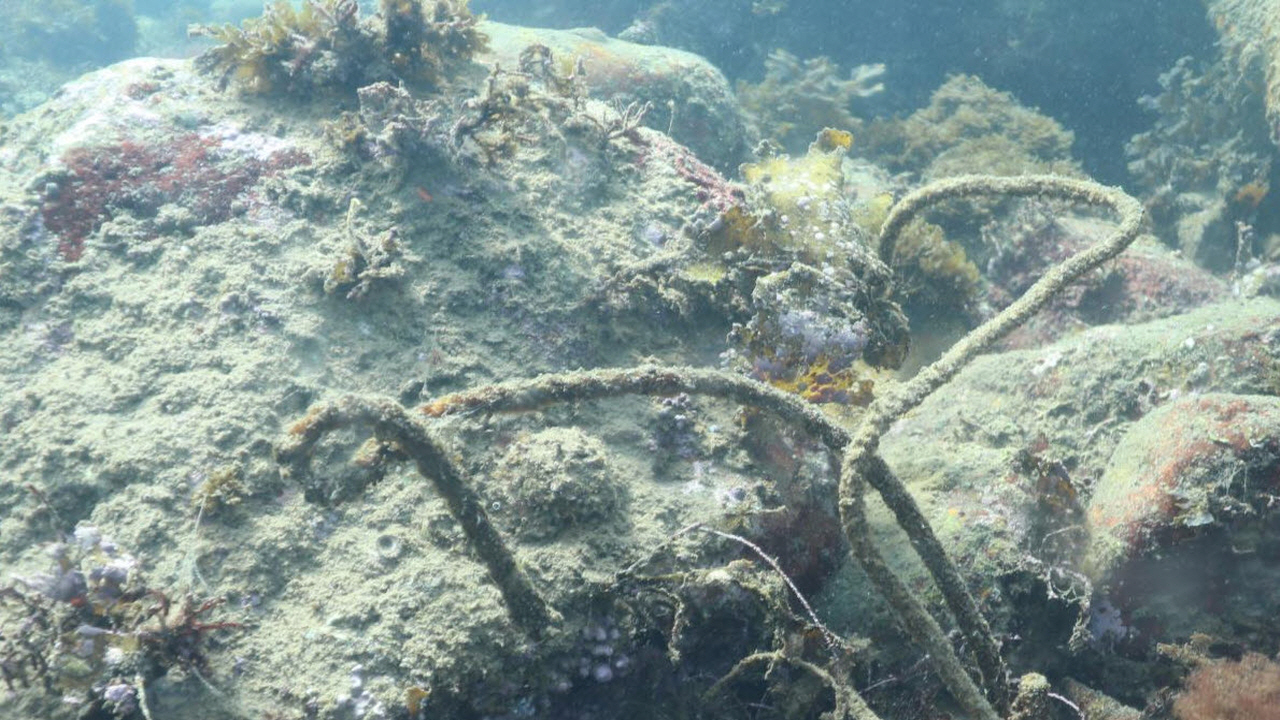bundle of ropes: (273, 170, 1150, 718)
